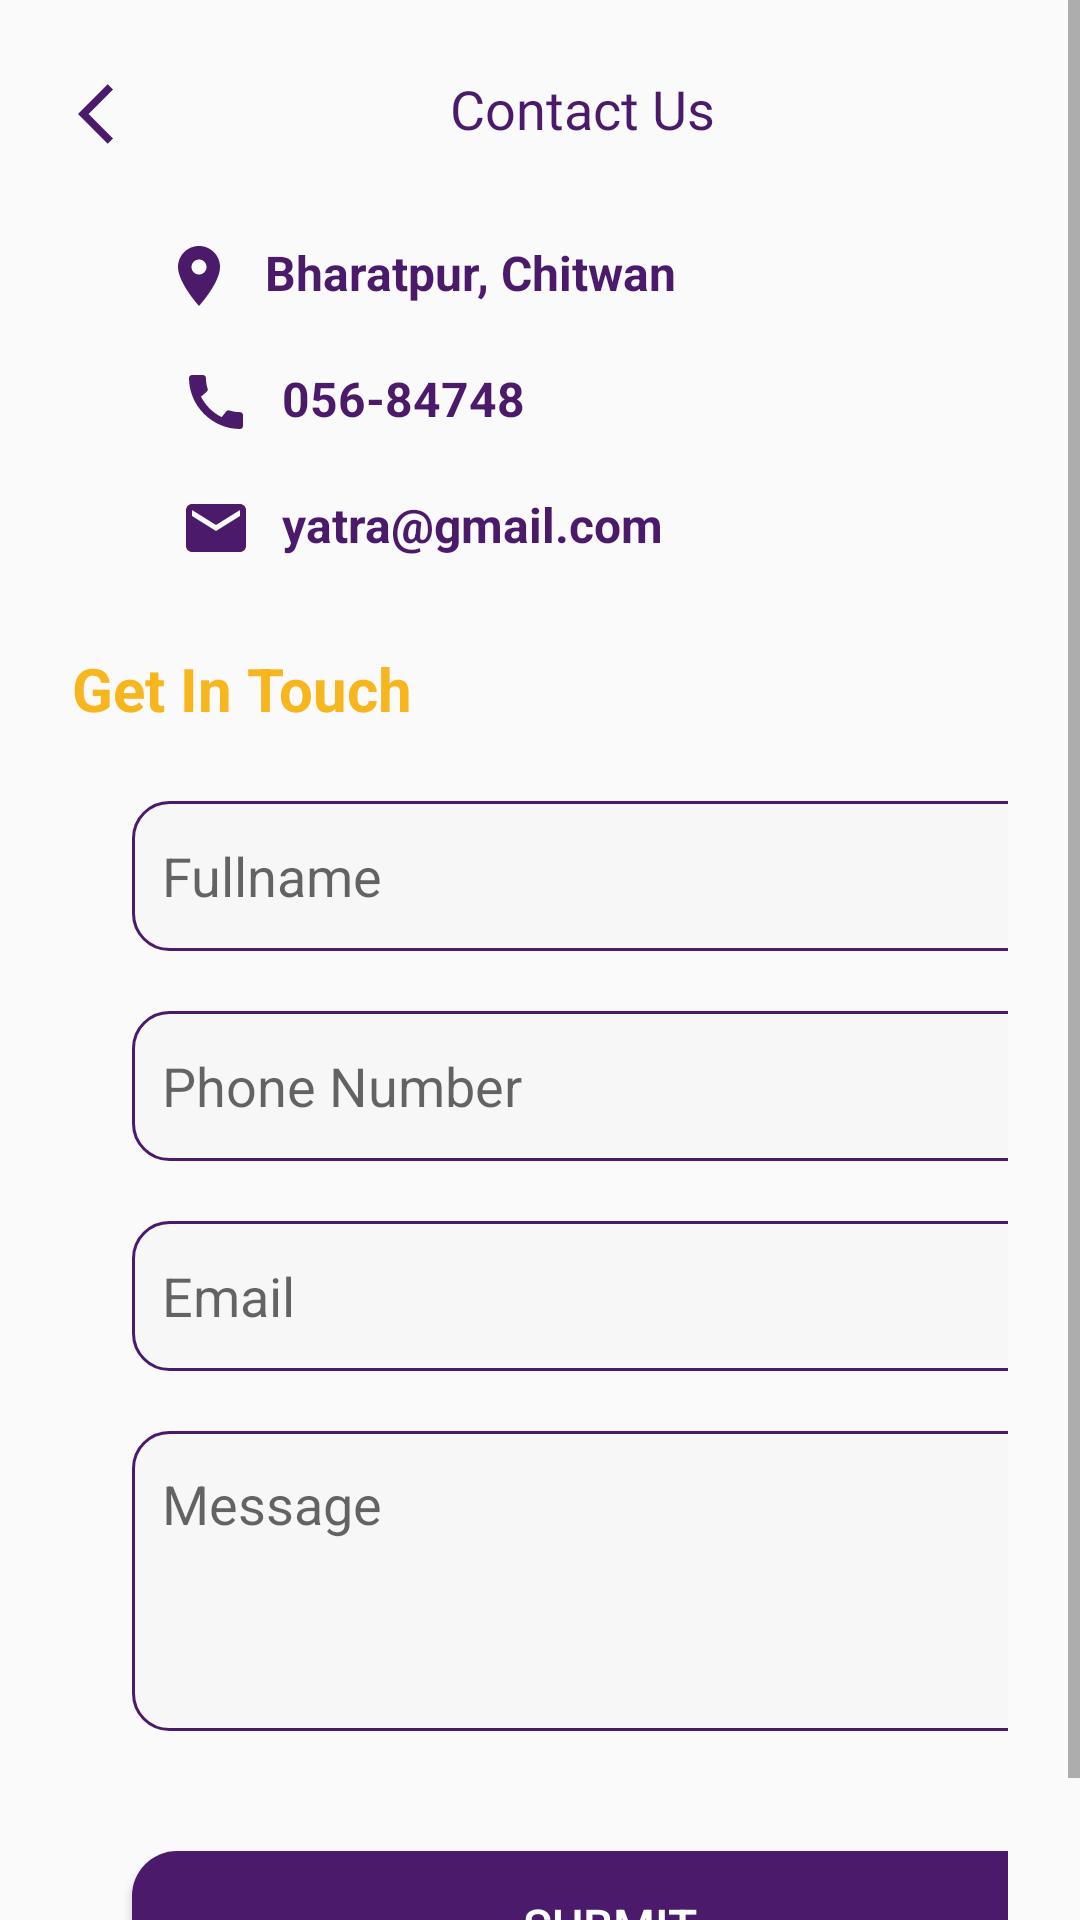

Where icons sit on this 1080 x 1920 app screen, as (x1, y1, x2, y2):
back arrow: (78, 84, 113, 144)
